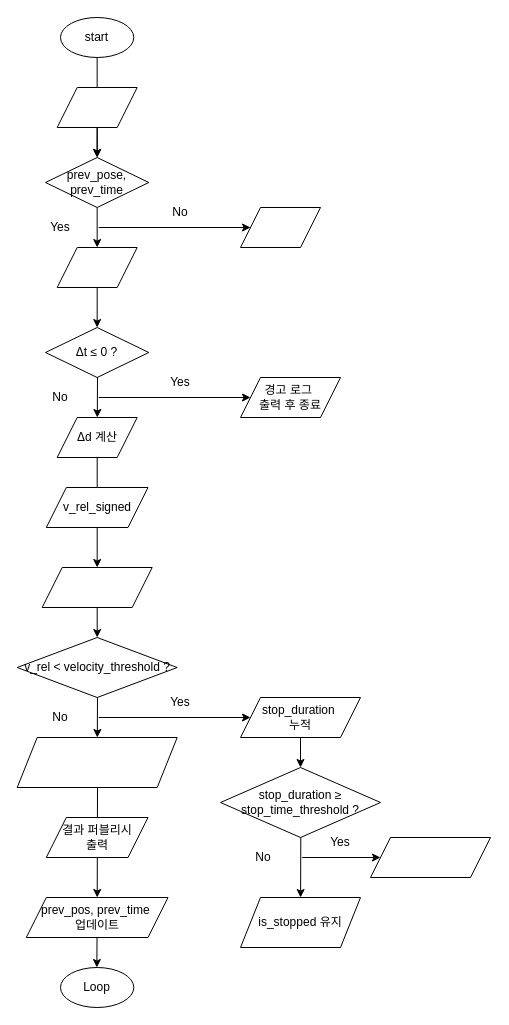
The diagram is 509 pixels wide and 1025 high, and some of its shapes have lost their labels. The shapes that lost their labels are listed below. From the top down, each one's centre as x and y in pixels, then its label:
At point 96,107: "rc카 위치 수신".
At point 280,227: "초기화 후 대기".
At point 96,267: "Δt 계산".
At point 96,587: "|v_rel_signed|".
At point 96,762: "is_stopped = False stop_duration = 0 초기화".
At point 430,857: "is_stopped = True".
